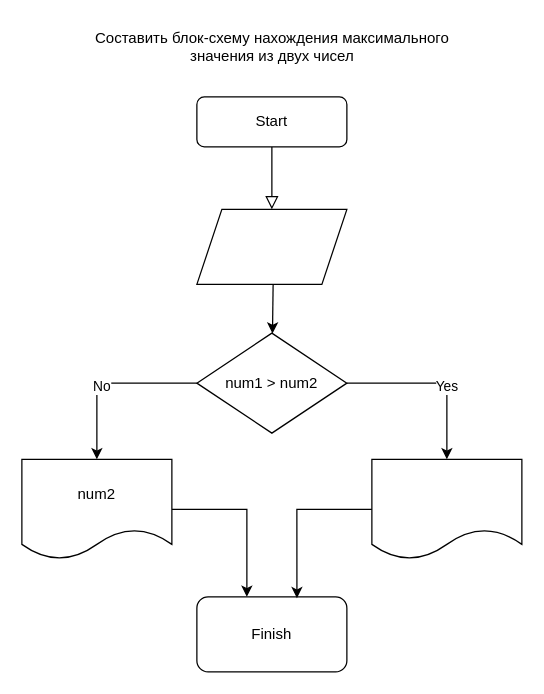
This 544x694 diagram has some shape labels left out. The centre of each missing label's shape, as x and y in pixels:
num1: (446,508)
num1, num2: (271,246)
